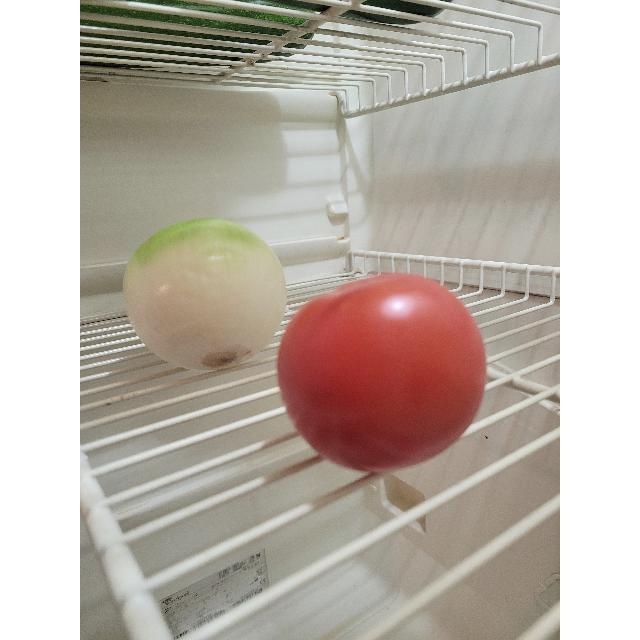onion: (122, 219, 288, 371)
tomato: (280, 270, 488, 474)
zucchini: (80, 0, 318, 64), (278, 1, 462, 26)
